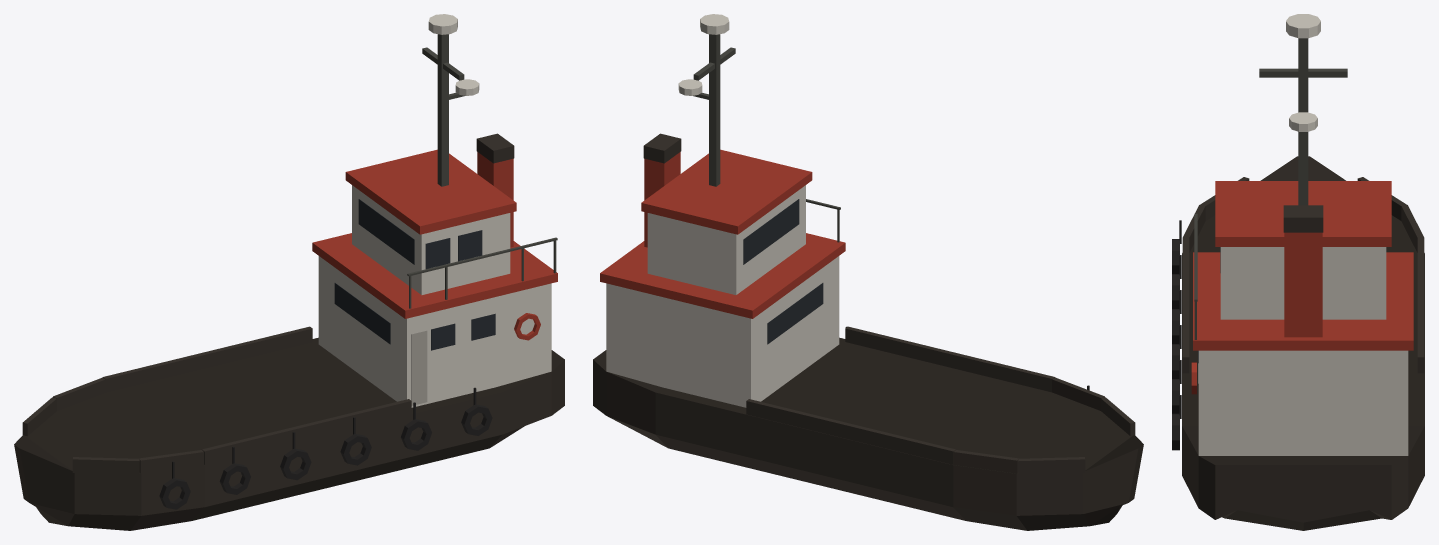
File: boat_01.glb
3 views of the same model, side by side, from view 1: azimuth 30°, elevation 25°; view 2: azimuth 150°, elevation 25°; view 3: azimuth 270°, elevation 25° (orthographic). The views are drawn at different scales.
Visible parts, largest first — view 1: Boat_01; view 2: Boat_01; view 3: Boat_01.
Part boxes in pixels (<box>): Boat_01: <box>14,14,564,530</box>; Boat_01: <box>593,14,1143,530</box>; Boat_01: <box>1172,14,1424,530</box>.
Size of the model in its own units: 12.7 by 9.8 by 4.58.
